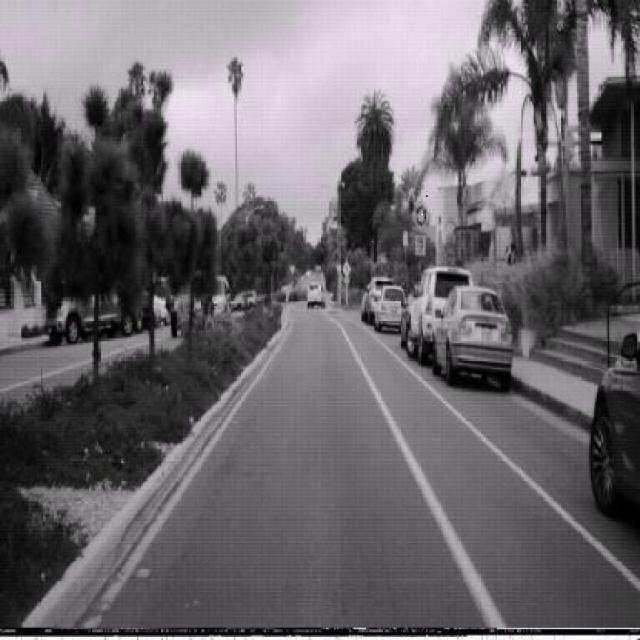roundabout: (410, 196, 430, 234)
